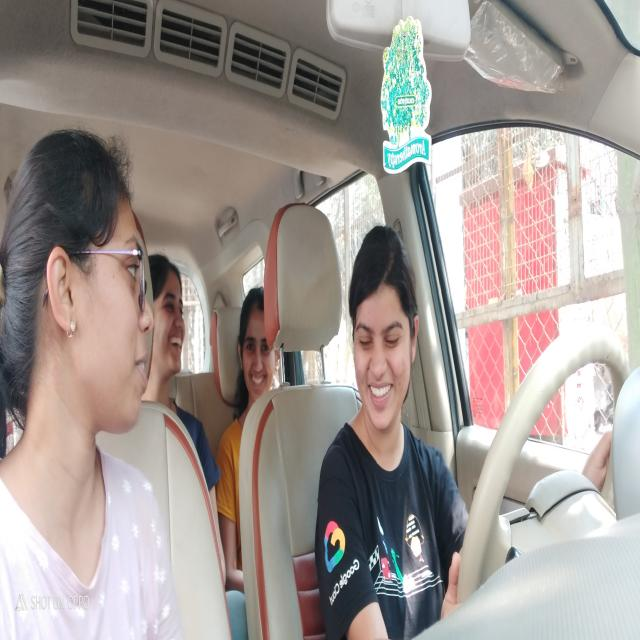LeftRight: (39, 144, 162, 432), (344, 238, 424, 432)
person: (238, 290, 282, 394), (152, 254, 188, 380)
talking: (361, 376, 400, 412), (133, 349, 151, 390)
